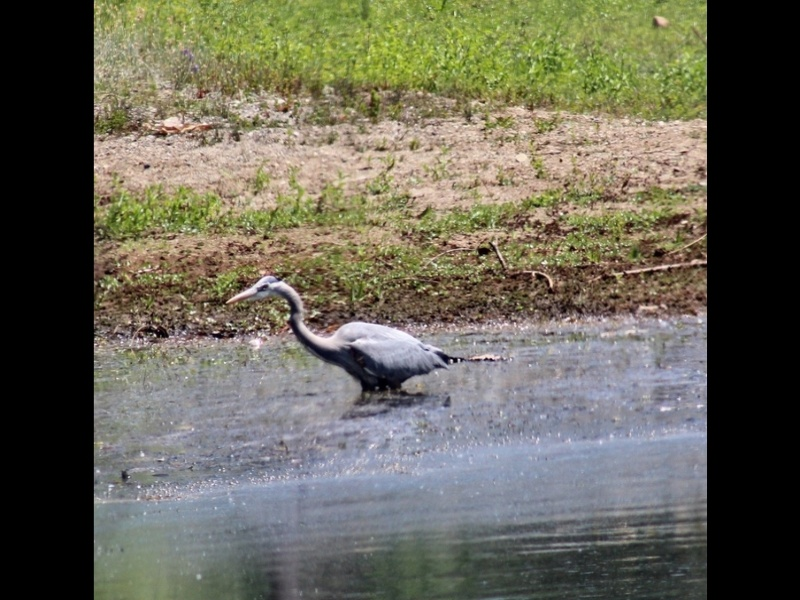heron: (222, 270, 479, 410)
